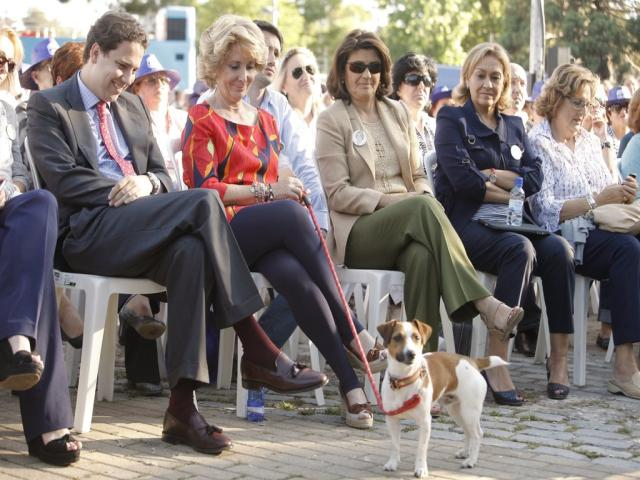Dog: (375, 319, 513, 479)
